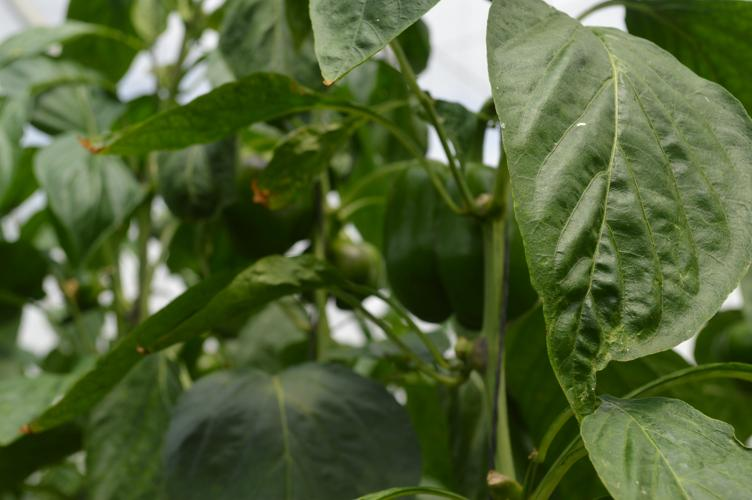BellPepper: (388, 164, 533, 326), (224, 154, 313, 257)
